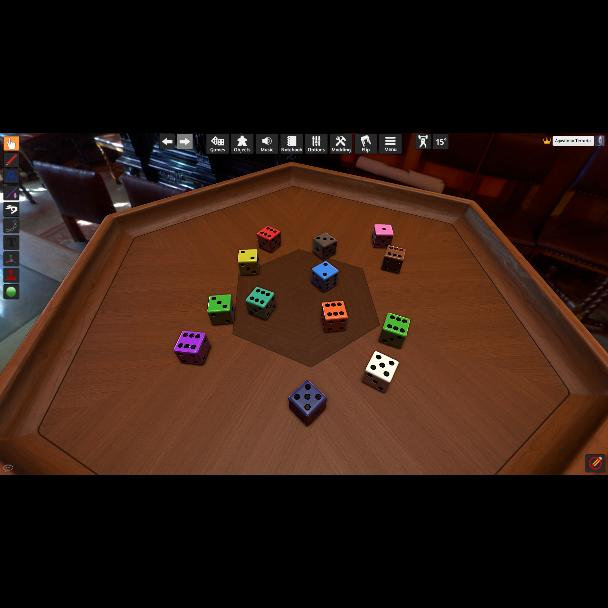d6: (363, 351, 399, 393), (297, 380, 329, 424), (174, 330, 210, 366), (378, 312, 409, 348), (245, 286, 275, 320), (206, 295, 234, 327), (320, 301, 346, 333), (312, 261, 337, 293), (382, 244, 406, 274), (314, 234, 339, 262), (256, 226, 280, 254), (237, 248, 259, 276), (372, 224, 394, 250)
